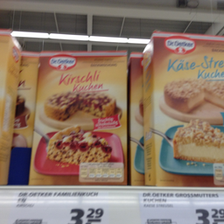cake: (32, 49, 128, 188), (140, 30, 222, 187)
